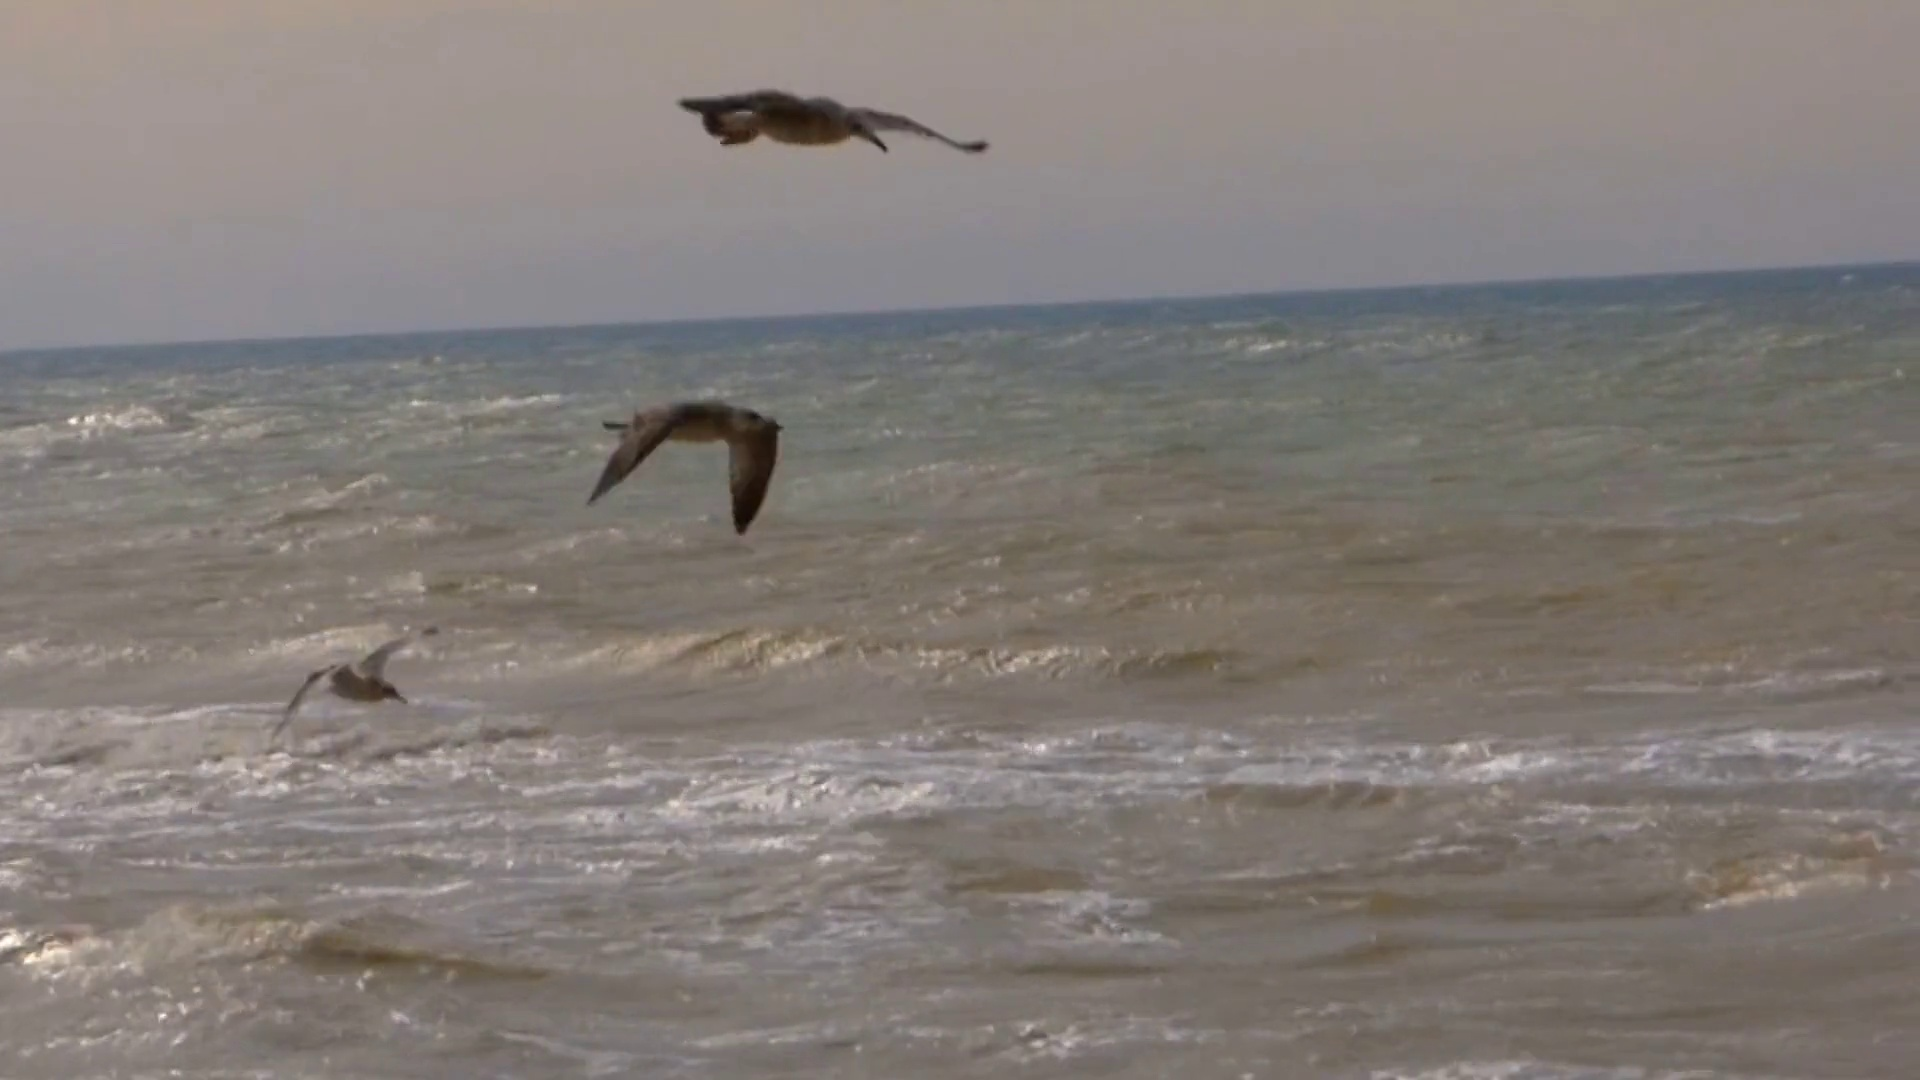bird: (585, 401, 781, 537), (676, 94, 986, 158), (270, 622, 436, 742)
